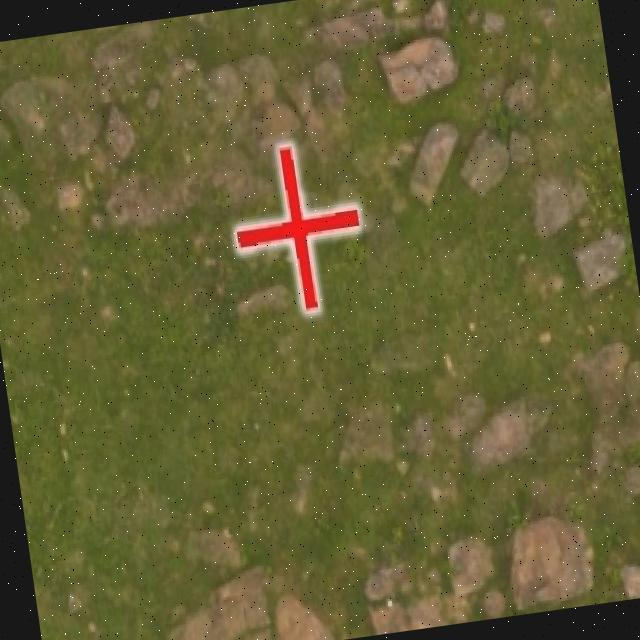x_marker: (225, 138, 369, 318)
